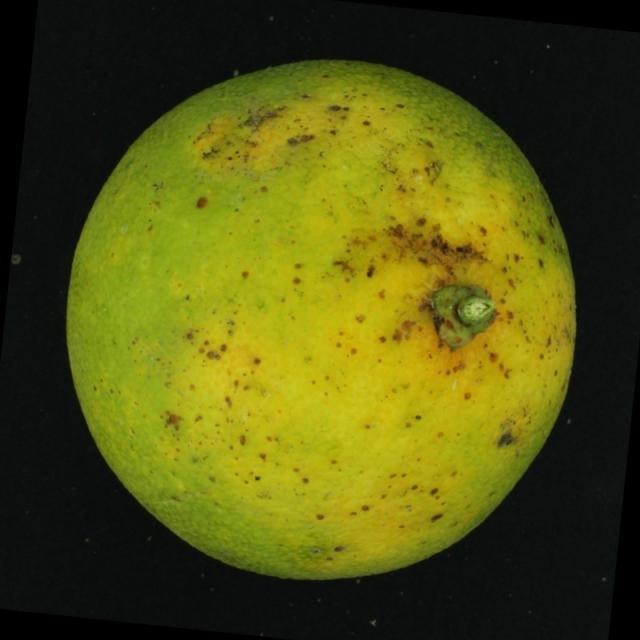grenning: (50, 40, 596, 601)
